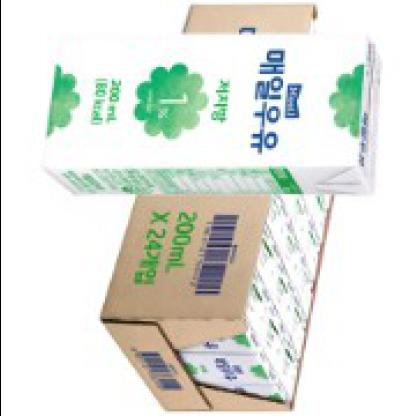tetra: (28, 16, 398, 209)
